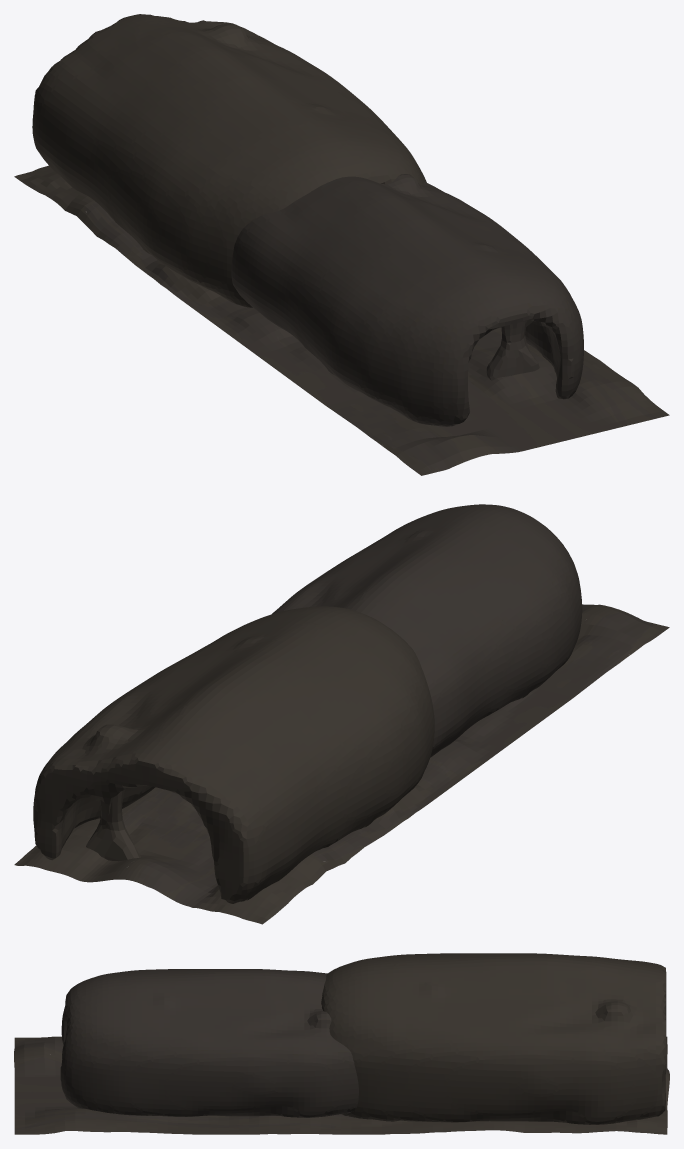
Rendered from Dungeon.fbx.
3 views of the same model, one above another, from view 1: azimuth 30°, elevation 25°; view 2: azimuth 150°, elevation 25°; view 3: azimuth 270°, elevation 25° (orthographic). The views are drawn at different scales.
Parts seen in each view (by area): view 1: Cube; view 2: Cube; view 3: Cube.
Part boxes in pixels (box(x1,y1,x2,y2)): Cube: box(14, 14, 669, 475); Cube: box(14, 504, 669, 924); Cube: box(14, 953, 669, 1134).
Size of the model in its own units: 9652 by 6212 by 27188.
Materials: 1 (1 with a texture image).
